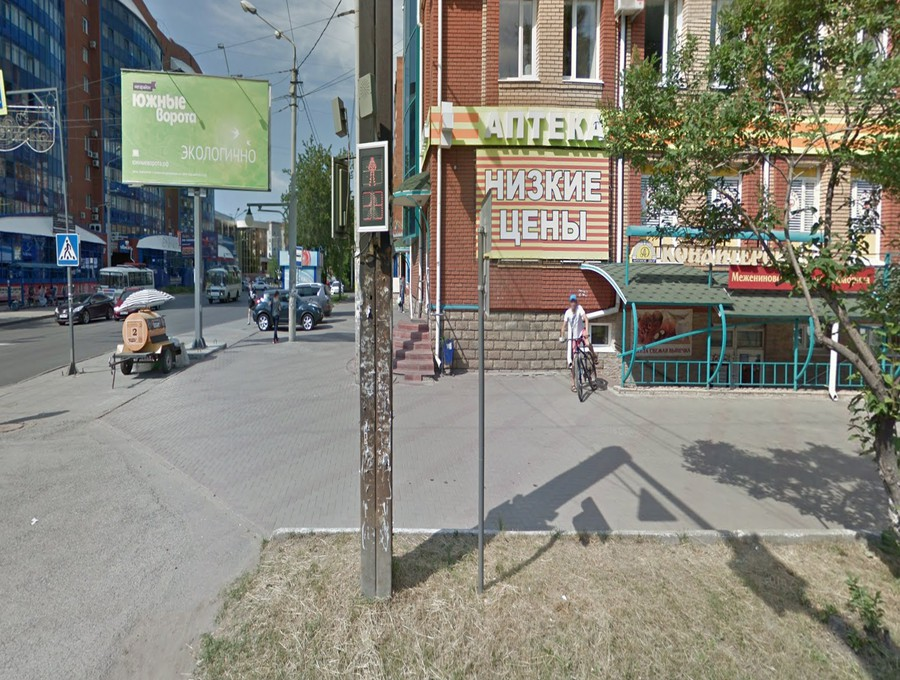Traffic Light-red: (343, 137, 395, 238)
